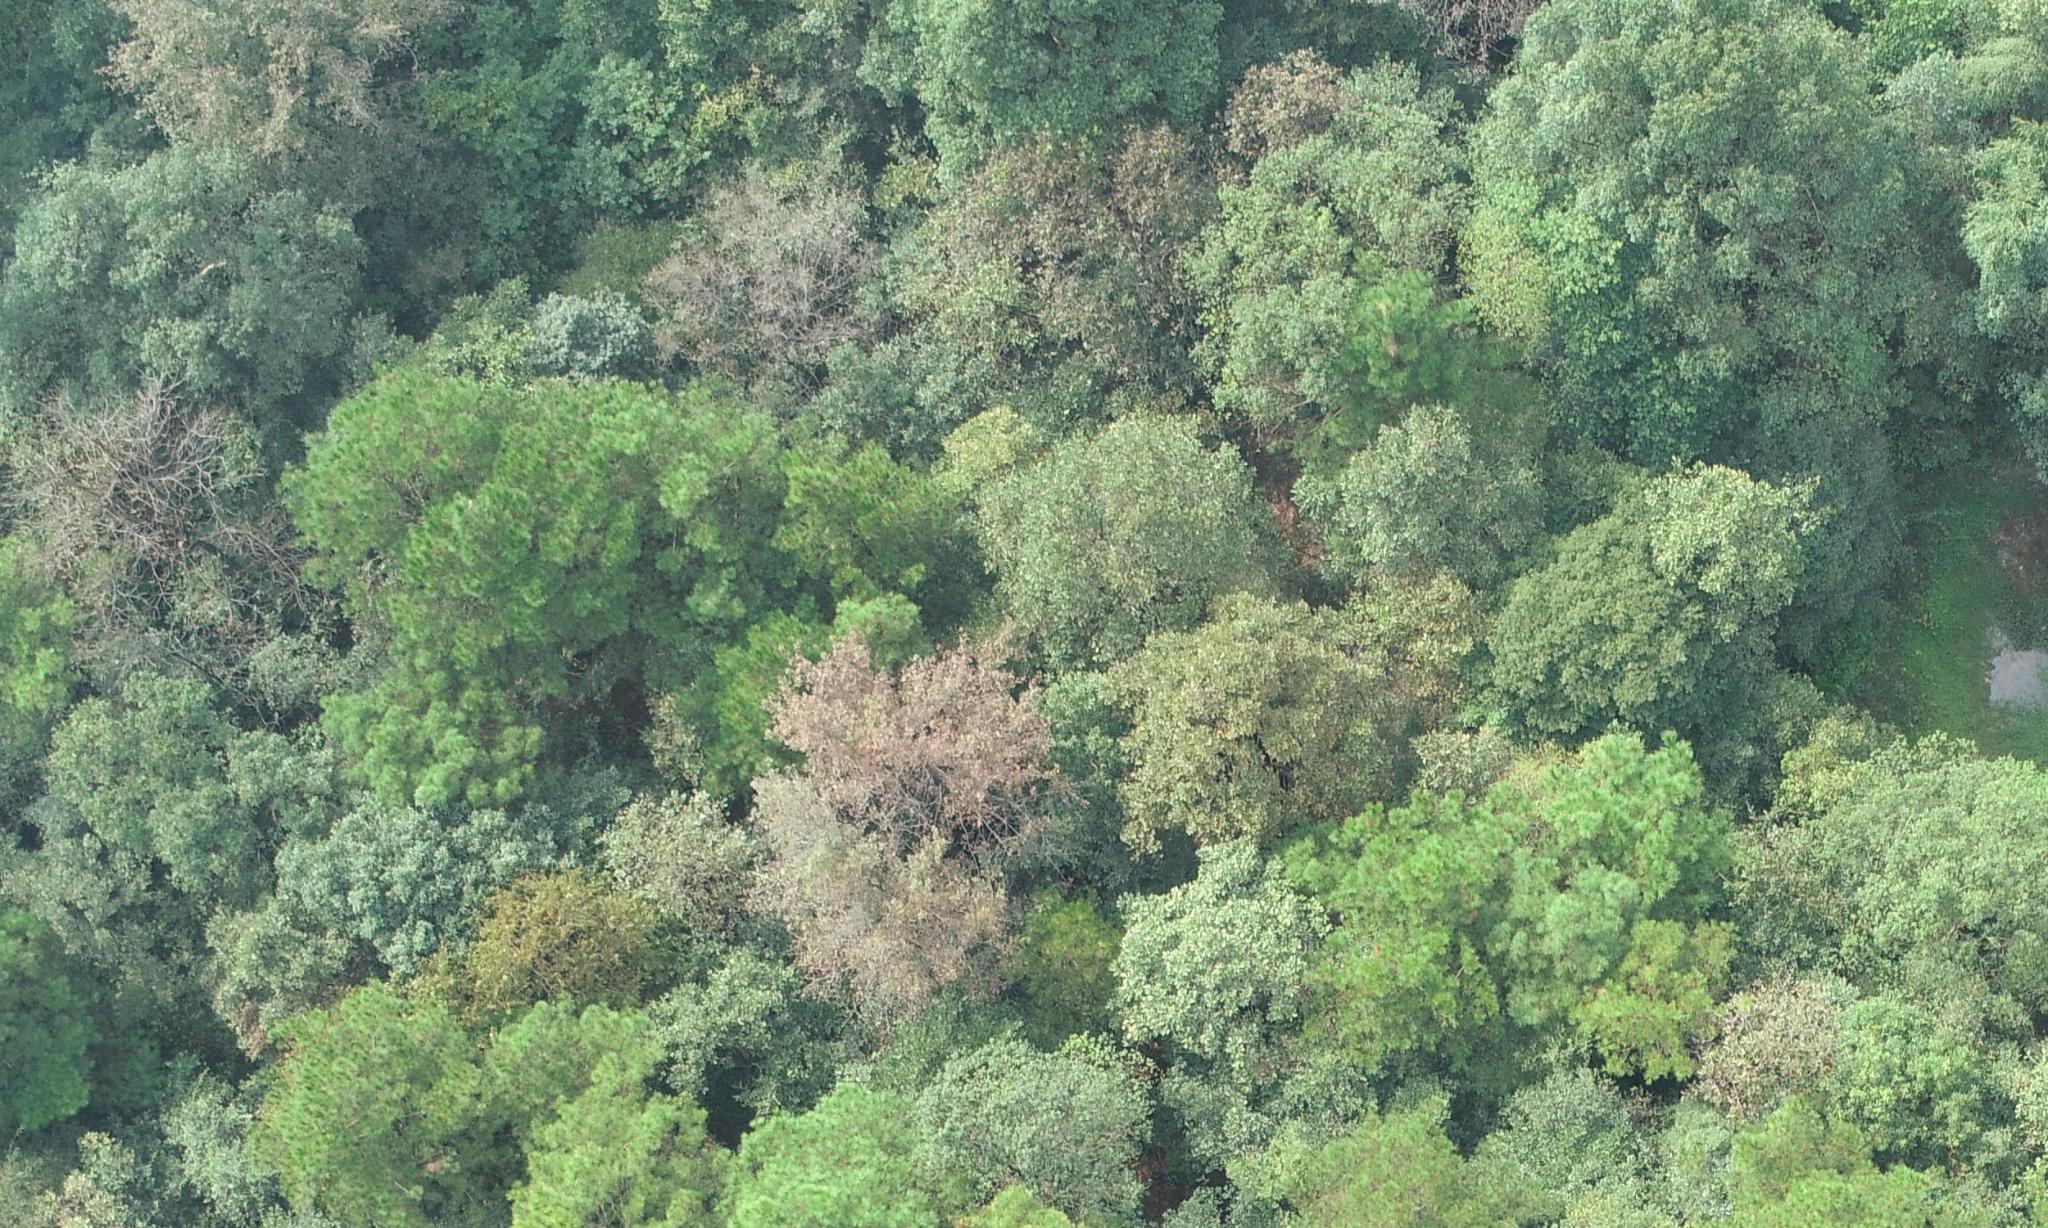dead: (25, 386, 276, 706)
